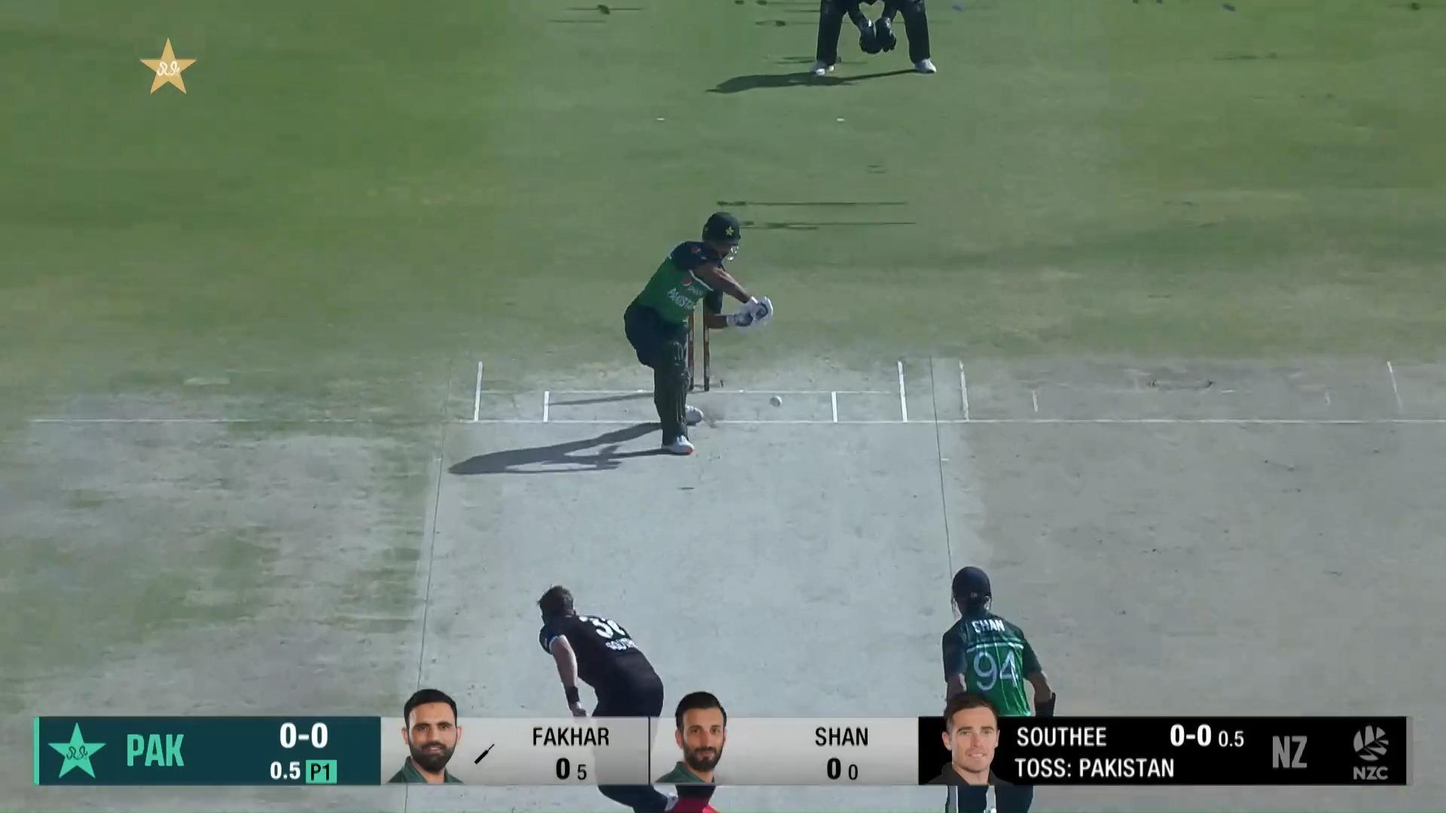BM 1: (622, 211, 775, 456)
BO: (536, 585, 678, 813)
